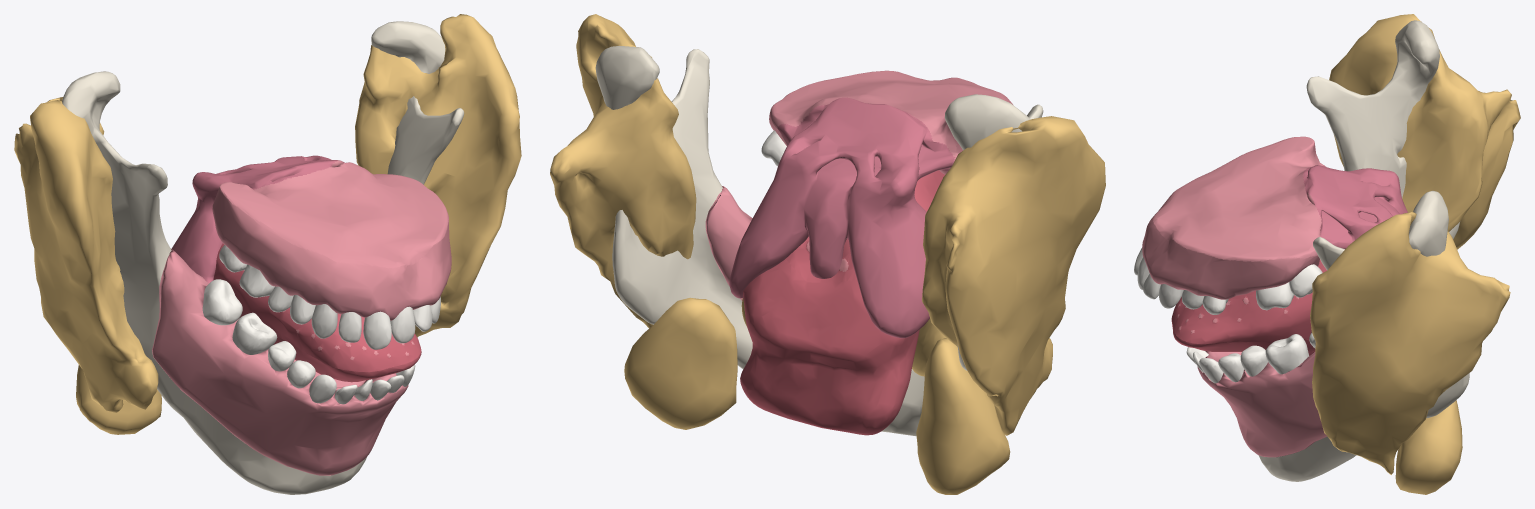
File: mouth.glb
3 views of the same model, side by side, from view 1: azimuth 30°, elevation 25°; view 2: azimuth 150°, elevation 25°; view 3: azimuth 270°, elevation 25° (orthographic). The views are drawn at different scales.
Visible parts, largest first — view 1: salivary-glands, upper-gingiva-palate, mandible, lower-gingiva-floor, teeth, tongue, soft-palate-pharynx; view 2: salivary-glands, soft-palate-pharynx, tongue, mandible, upper-gingiva-palate, lower-gingiva-floor; view 3: salivary-glands, upper-gingiva-palate, mandible, lower-gingiva-floor, teeth, tongue, soft-palate-pharynx.
Boxes of the visible parts, x1,y1,x2,y2 form: salivary-glands: (14, 14, 521, 434); upper-gingiva-palate: (212, 160, 451, 320); mandible: (62, 21, 464, 494); lower-gingiva-floor: (152, 248, 408, 475); teeth: (202, 245, 440, 404); tongue: (213, 243, 421, 382); soft-palate-pharynx: (171, 155, 349, 283); salivary-glands: (550, 14, 1105, 494); soft-palate-pharynx: (729, 97, 955, 338); tongue: (740, 170, 944, 435); mandible: (595, 46, 1043, 436); upper-gingiva-palate: (769, 70, 1012, 174); lower-gingiva-floor: (705, 186, 752, 300); salivary-glands: (1310, 14, 1520, 494); upper-gingiva-palate: (1142, 136, 1323, 299); mandible: (1258, 20, 1469, 481); lower-gingiva-floor: (1197, 351, 1326, 457); teeth: (1134, 247, 1322, 383); tongue: (1171, 259, 1326, 355); soft-palate-pharynx: (1303, 165, 1407, 332).
Bounding box in the file's own units: 0.1292 × 0.1078 × 0.1014.
